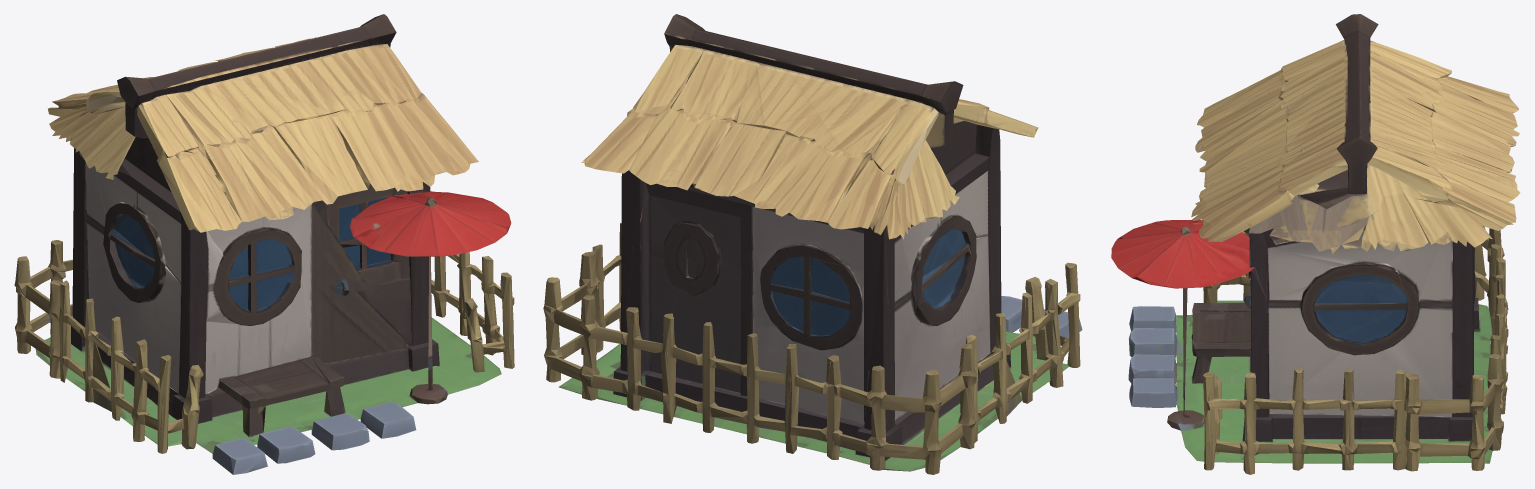
Rendered from tea_house.glb.
3 views of the same model, side by side, from view 1: azimuth 30°, elevation 25°; view 2: azimuth 150°, elevation 25°; view 3: azimuth 270°, elevation 25° (orthographic). The views are drawn at different scales.
Visible parts, largest first — view 1: tea_house; view 2: tea_house; view 3: tea_house.
Boxes of the visible parts, <box> form: tea_house: <box>14,14,514,474</box>; tea_house: <box>543,14,1082,474</box>; tea_house: <box>1111,14,1520,474</box>.
Size of the model in its own units: 6.19 by 5 by 6.01.
1 material, 1 textured.
